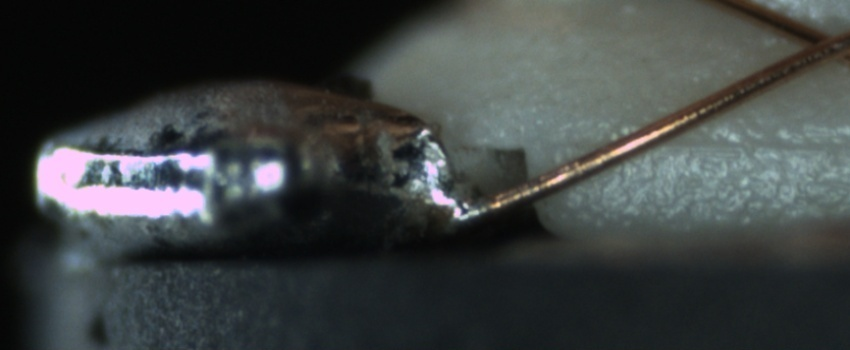CL: (777, 15, 848, 71)
DL: (567, 112, 847, 173)
